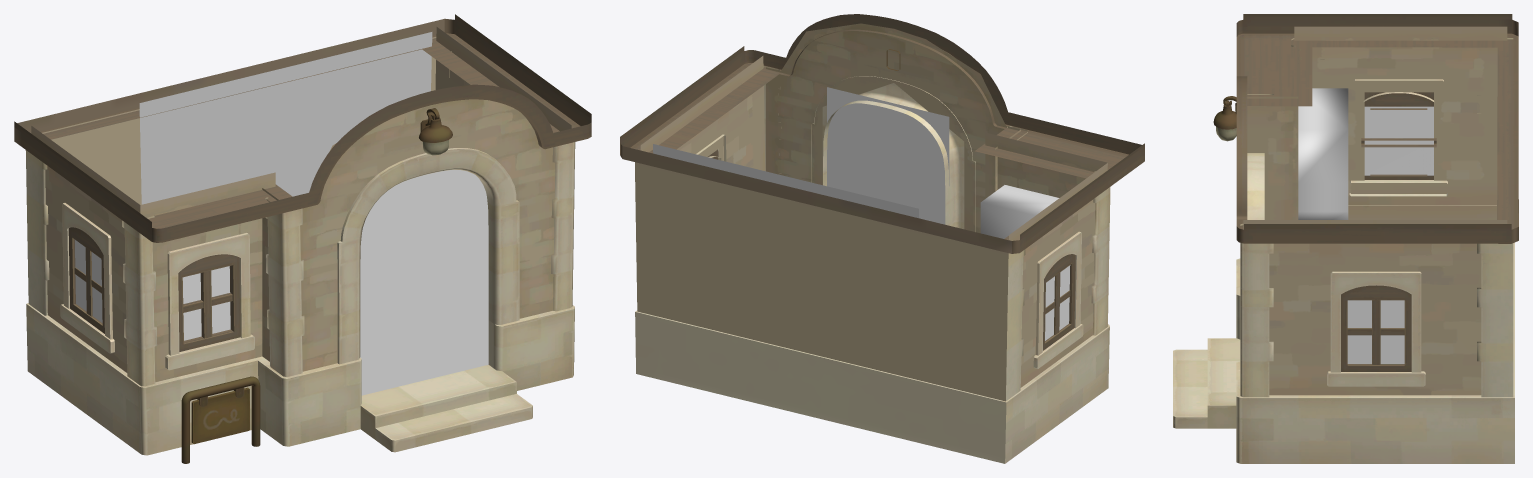
File: wall_nb_stone_a.glb
3 views of the same model, side by side, from view 1: azimuth 30°, elevation 25°; view 2: azimuth 150°, elevation 25°; view 3: azimuth 270°, elevation 25° (orthographic). The views are drawn at different scales.
Visible parts, largest first — view 1: BackWall_low__mWallA, InnerWall__mHouseInner, SoftMesh__mSoftMesh, Base_low__mSignboard, GlassFront__mWindowGlass, GlassL__mSideWindow, Base_low_1__mLamp; view 2: BackWall_low__mWallA, SoftMesh__mSoftMesh, InnerWall__mHouseInner, HouseInner_1__mHouseInner, GlassL__mSideWindow; view 3: BackWall_low__mWallA, GlassL__mSideWindow, HouseInner_1__mHouseInner, Base_low_1__mLamp.
Part boxes in pixels (box(x1,y1,x2,y2)): BackWall_low__mWallA: box(14, 14, 591, 455); InnerWall__mHouseInner: box(139, 32, 432, 204); SoftMesh__mSoftMesh: box(360, 170, 488, 395); Base_low__mSignboard: box(181, 376, 260, 463); GlassFront__mWindowGlass: box(182, 266, 230, 340); GlassL__mSideWindow: box(75, 240, 102, 322); Base_low_1__mLamp: box(419, 108, 452, 155); BackWall_low__mWallA: box(620, 14, 1144, 463); SoftMesh__mSoftMesh: box(827, 87, 949, 224); InnerWall__mHouseInner: box(653, 144, 918, 218); HouseInner_1__mHouseInner: box(980, 185, 1059, 238); GlassL__mSideWindow: box(1045, 265, 1070, 340); BackWall_low__mWallA: box(1173, 14, 1518, 463); GlassL__mSideWindow: box(1347, 106, 1433, 363); HouseInner_1__mHouseInner: box(1298, 88, 1348, 219); Base_low_1__mLamp: box(1213, 96, 1236, 141).
Bounding box in the file's own units: 39.24 × 27.32 × 27.3.
Materials: 8 (3 with a texture image).
